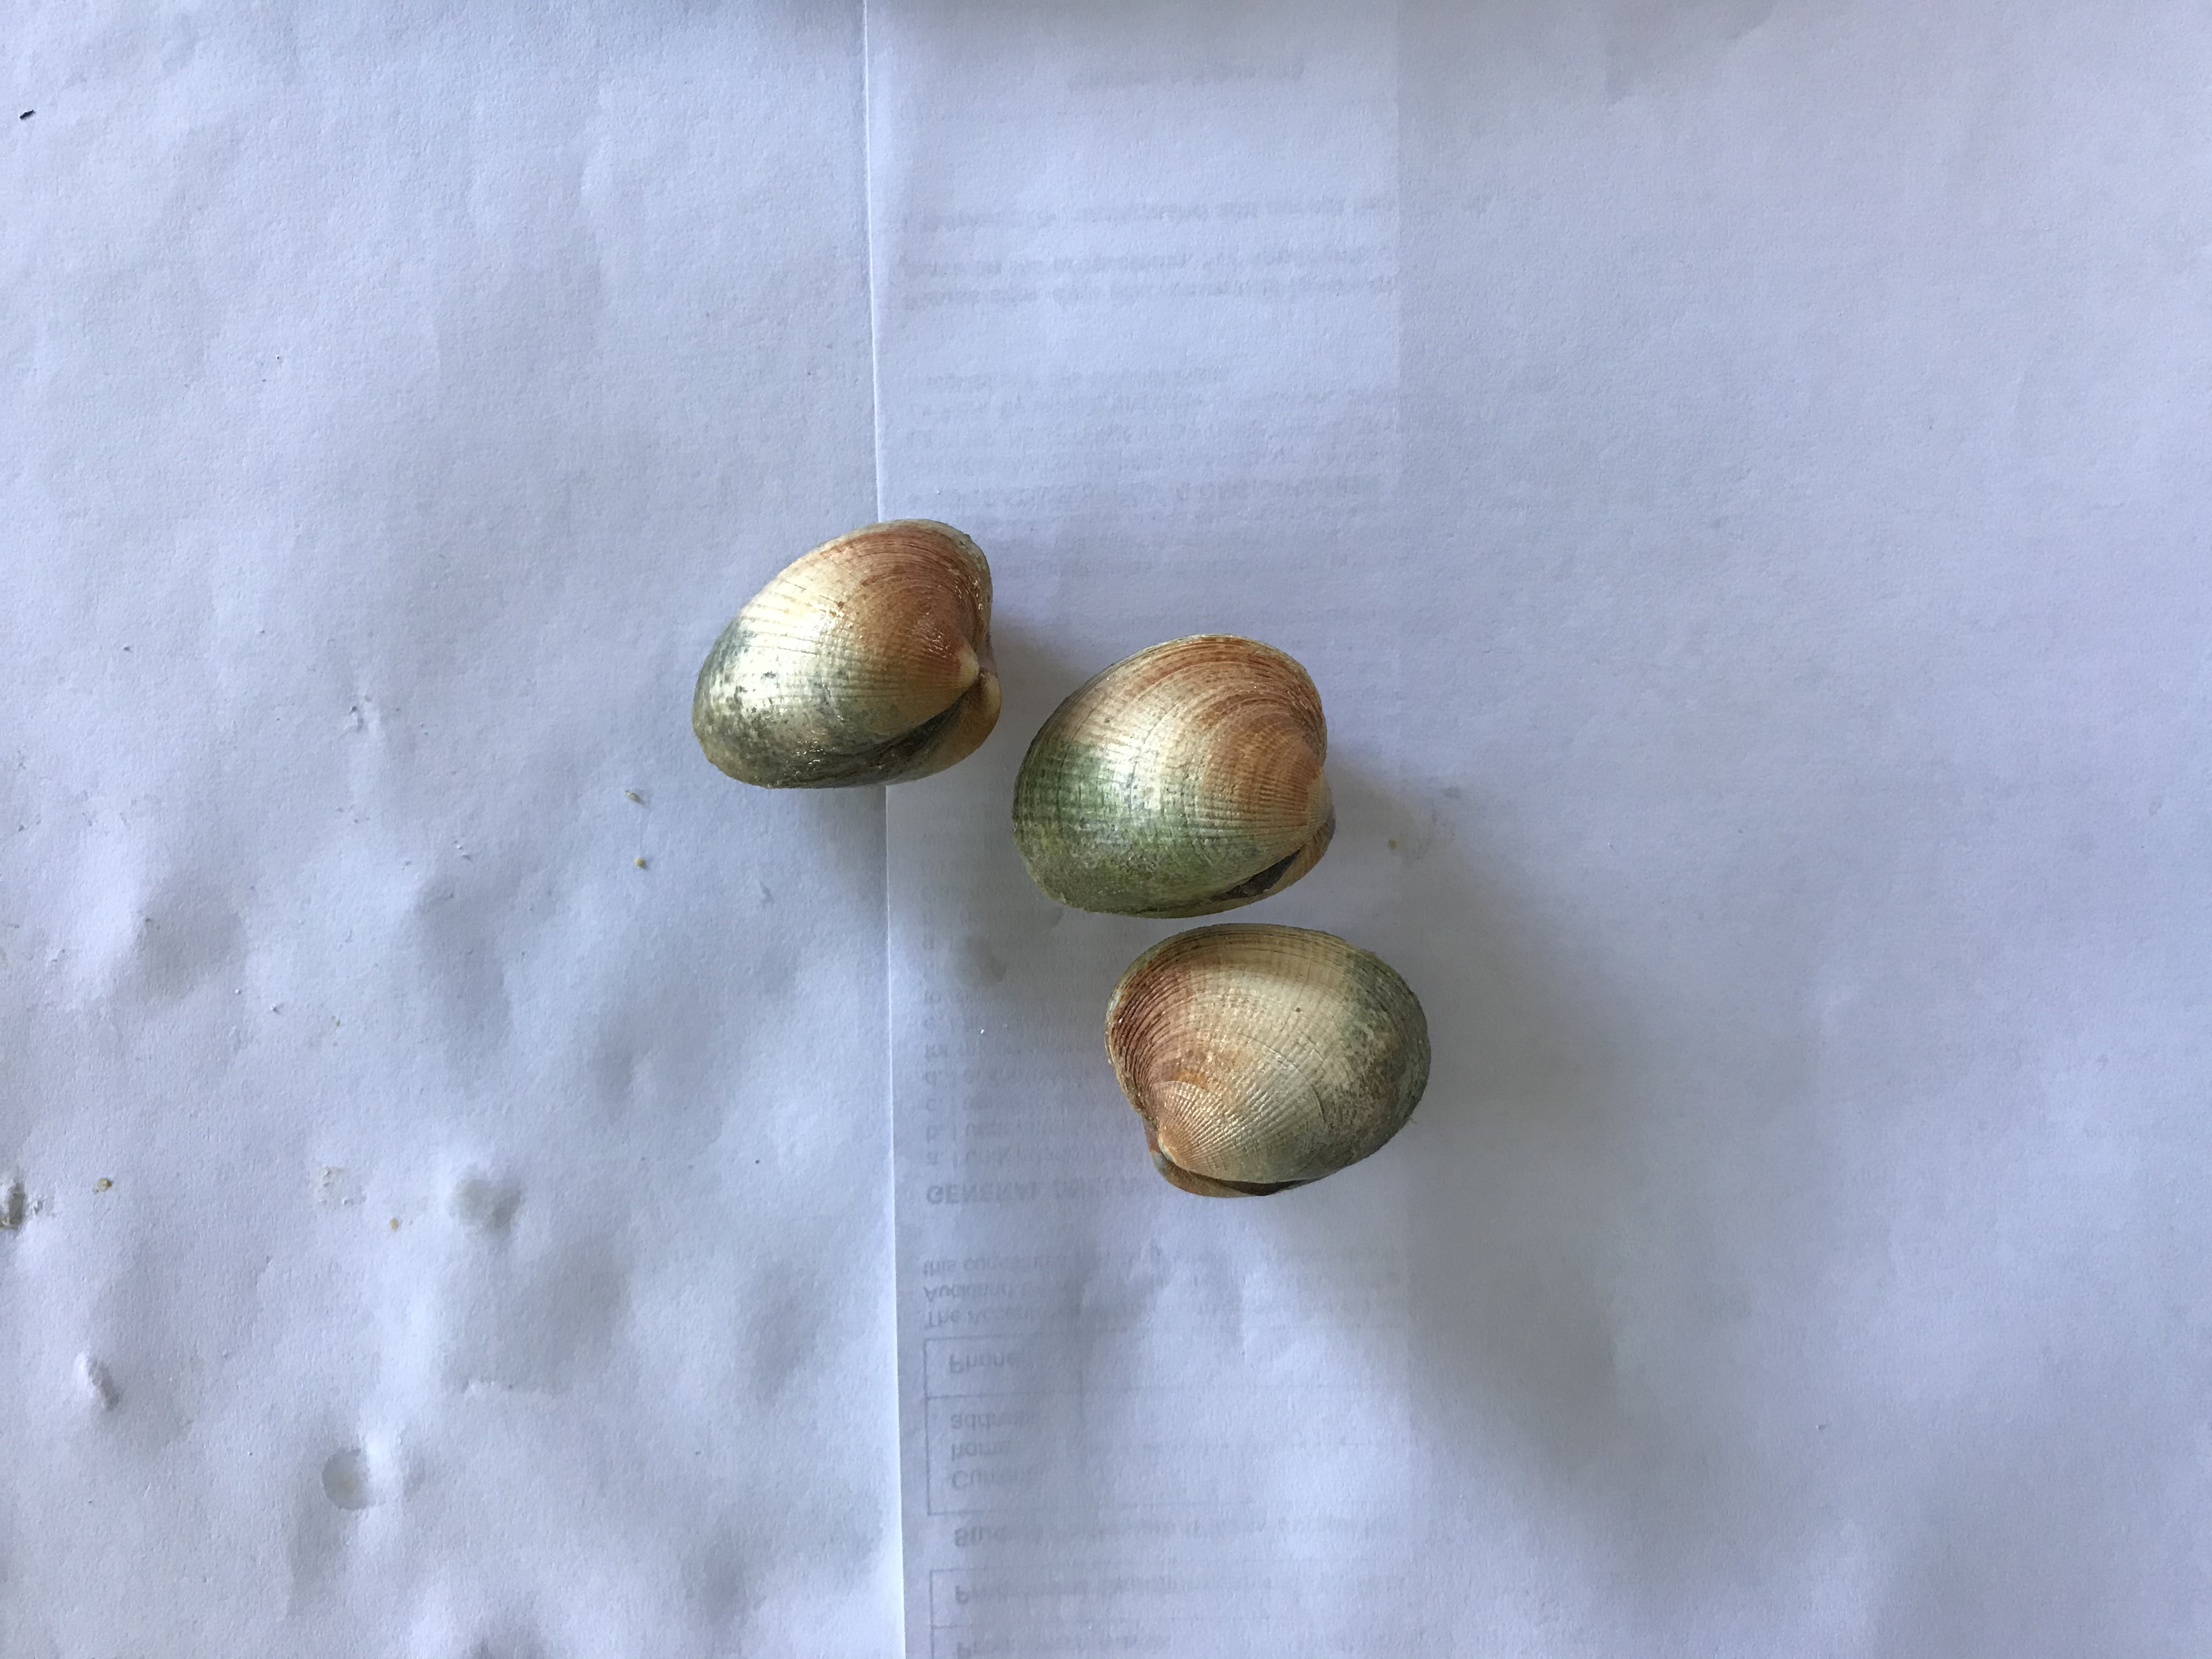cockle: (1007, 633, 1343, 920), (1092, 924, 1442, 1199), (679, 512, 1007, 798)
